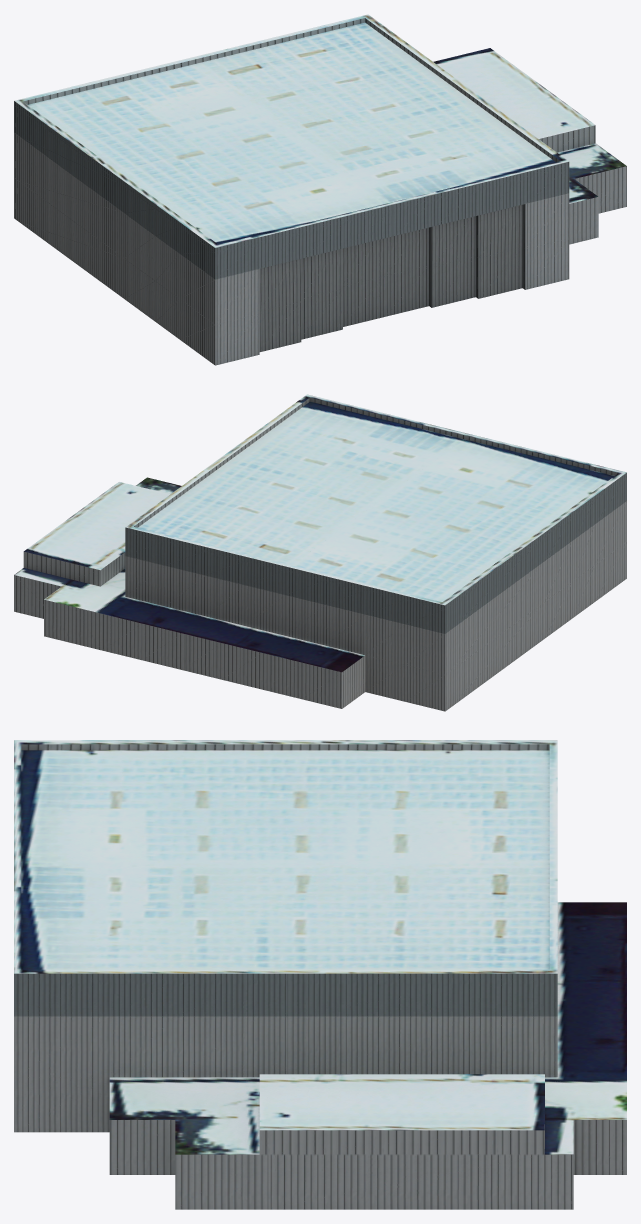
Rendered from Hangar1.gltf.
3 views of the same model, one above another, from view 1: azimuth 30°, elevation 25°; view 2: azimuth 150°, elevation 25°; view 3: azimuth 270°, elevation 25° (orthographic). The views are drawn at different scales.
Visible parts, largest first — view 1: Hangar1; view 2: Hangar1; view 3: Hangar1.
Part boxes in pixels (<box>): Hangar1: <box>14,14,626,365</box>; Hangar1: <box>14,394,626,711</box>; Hangar1: <box>14,740,626,1209</box>.
Bounding box in the file's own units: 54.58 × 13 × 45.5.
Materials: 1 (1 with a texture image).
